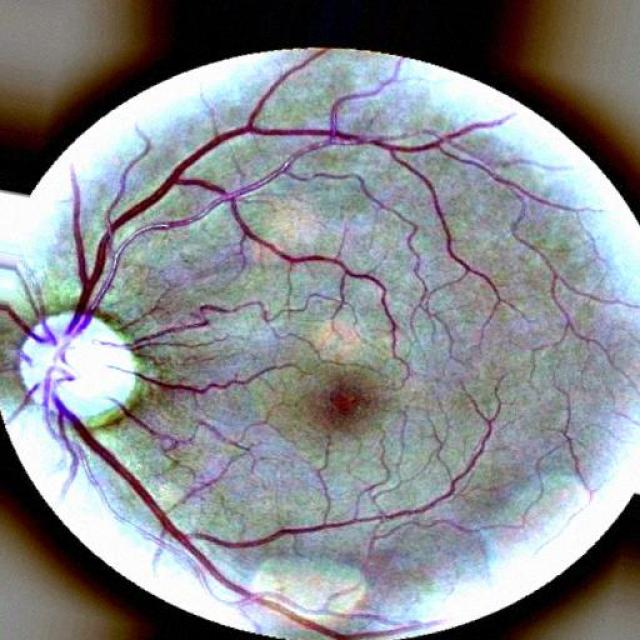Macula: (311, 374, 394, 430)
Nerves: (66, 430, 335, 634), (68, 119, 322, 308), (136, 369, 227, 394)
Optic Disk: (20, 316, 137, 421)
